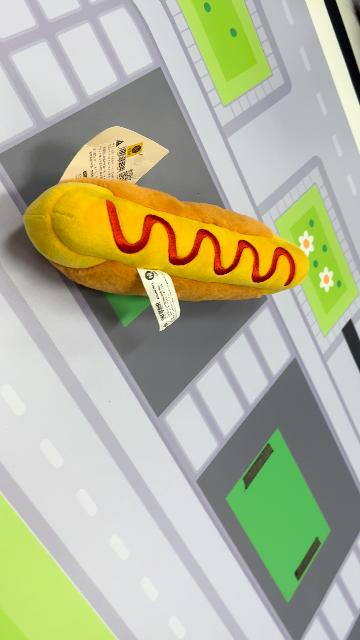hotdog: (23, 176, 311, 304)
